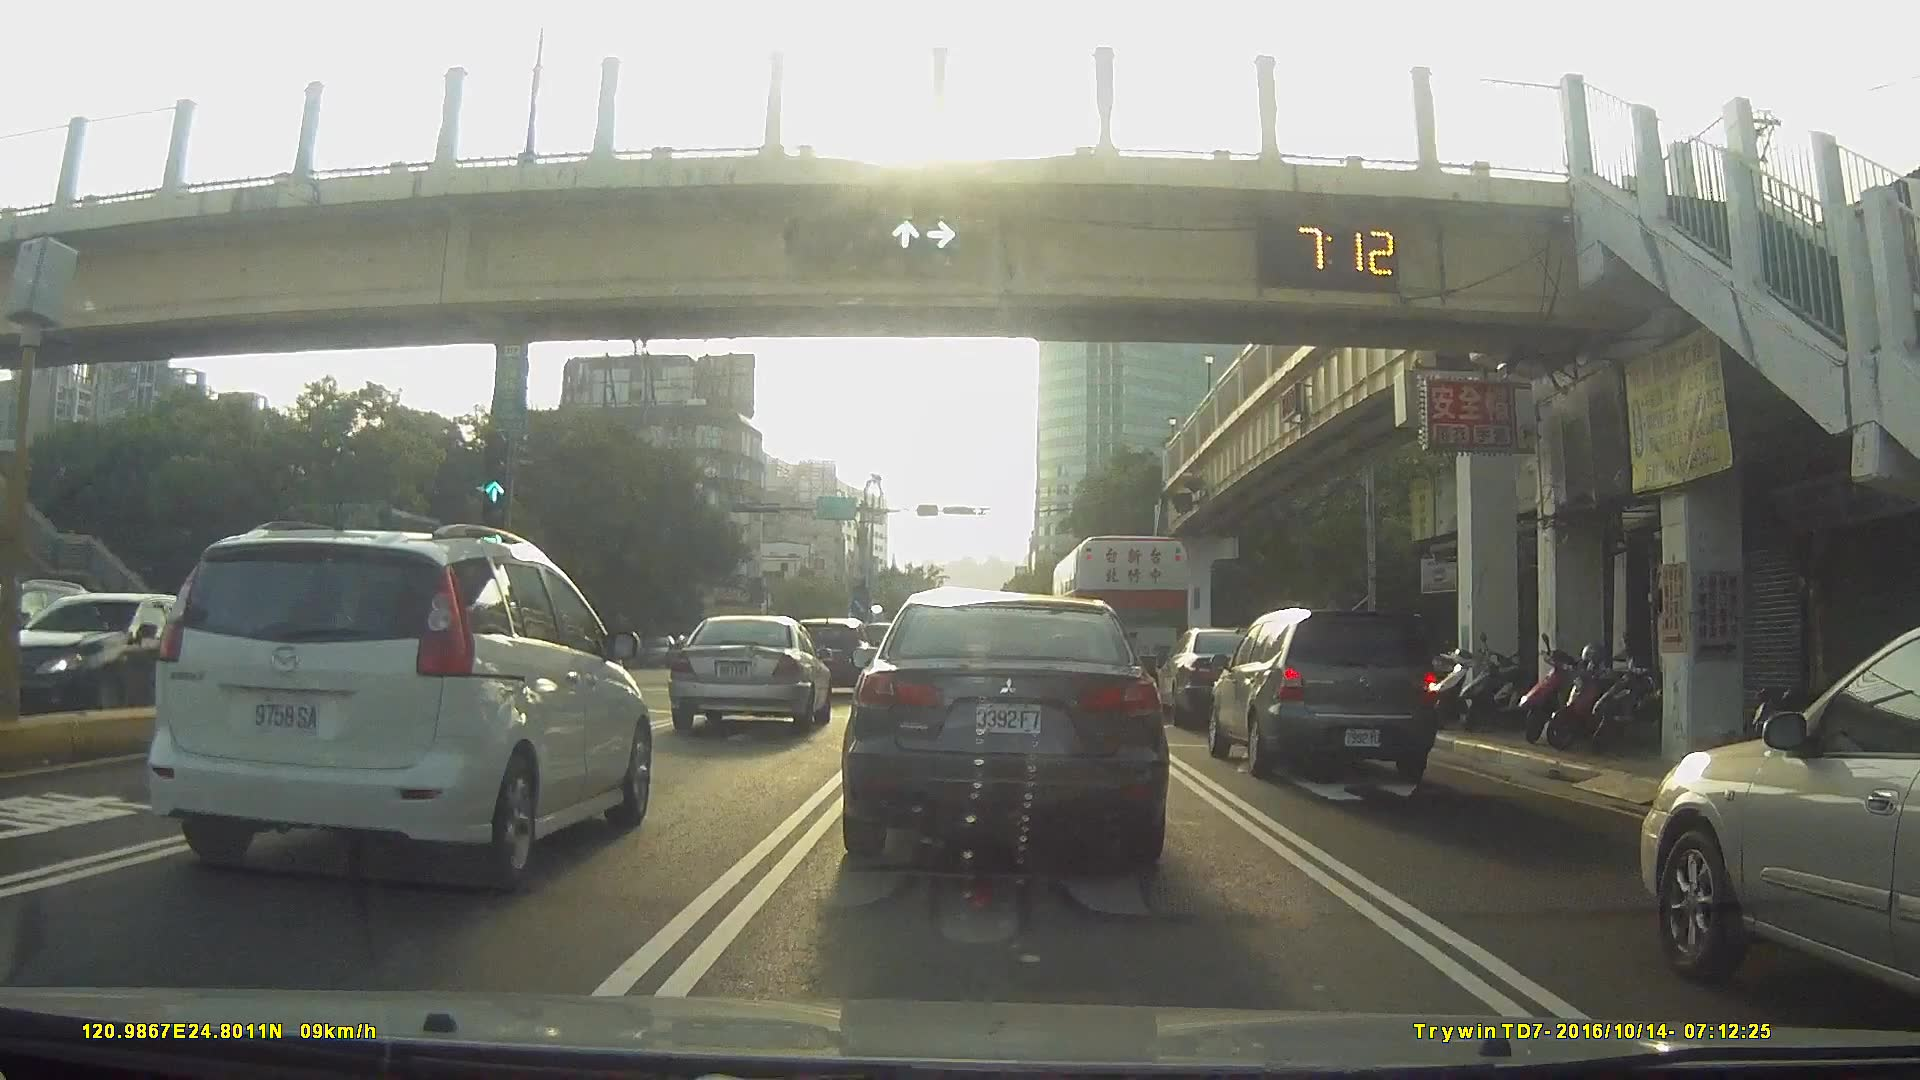vehicle: (138, 518, 655, 885), (1636, 624, 1920, 1002), (843, 584, 1164, 876), (1205, 605, 1439, 789), (8, 592, 243, 724), (1051, 535, 1203, 694), (667, 613, 829, 732), (1156, 624, 1280, 727), (791, 615, 876, 694), (632, 632, 683, 670)
